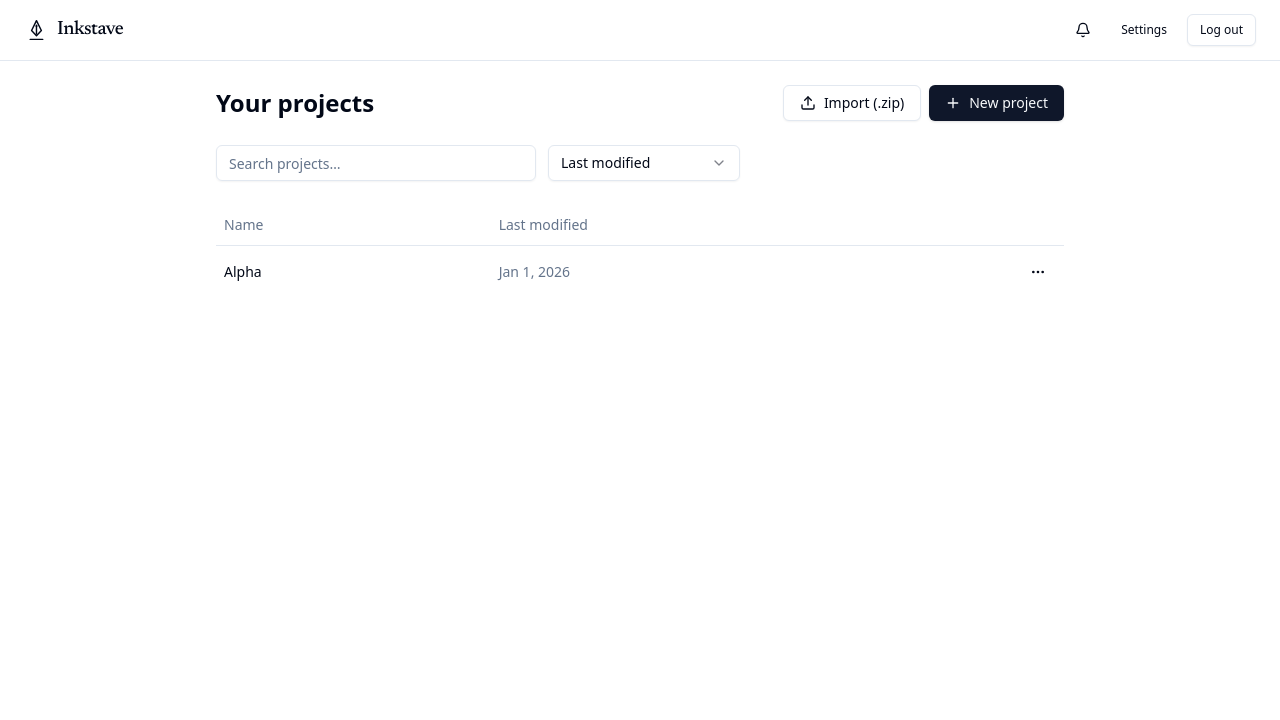
Test: ProjectsPage › renames a project optimistically
Check: the link "Alpha" is shown, box [224, 262, 262, 280]
Click the button named "Project actions" at point(1038, 272), box [1020, 254, 1056, 290]
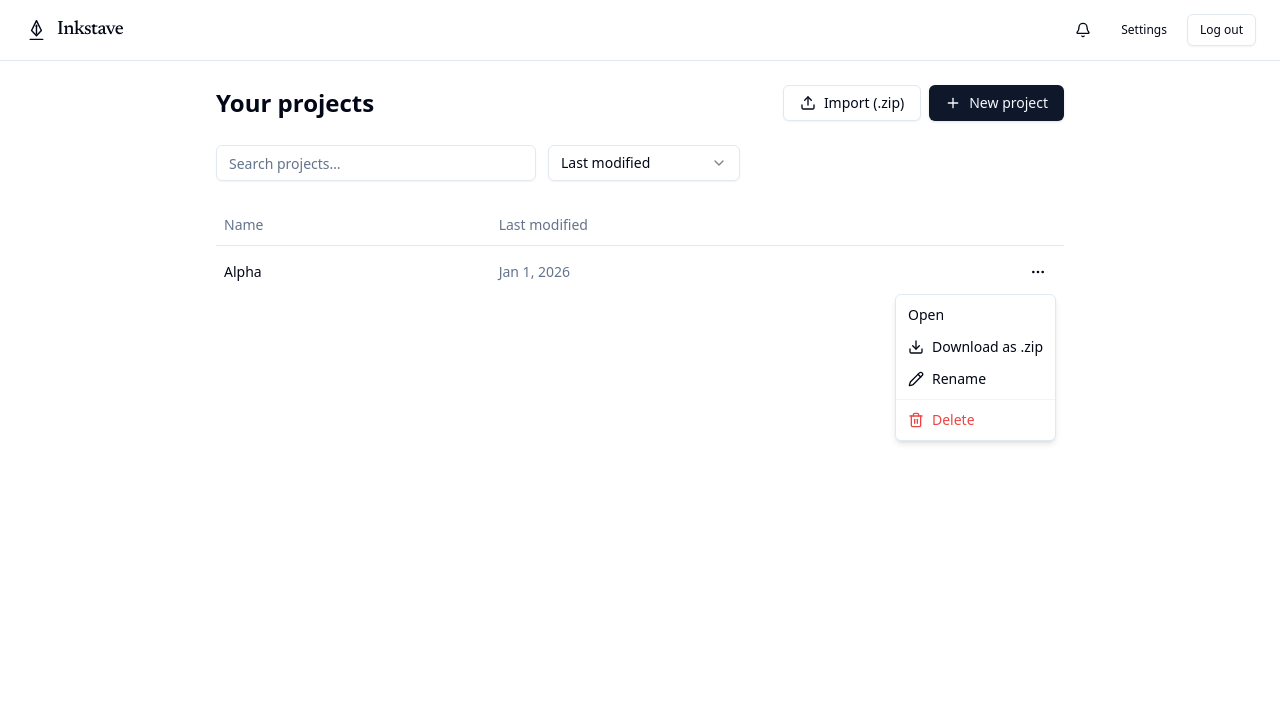
Click the menu item "Rename" at point(947, 378), box [908, 369, 986, 388]
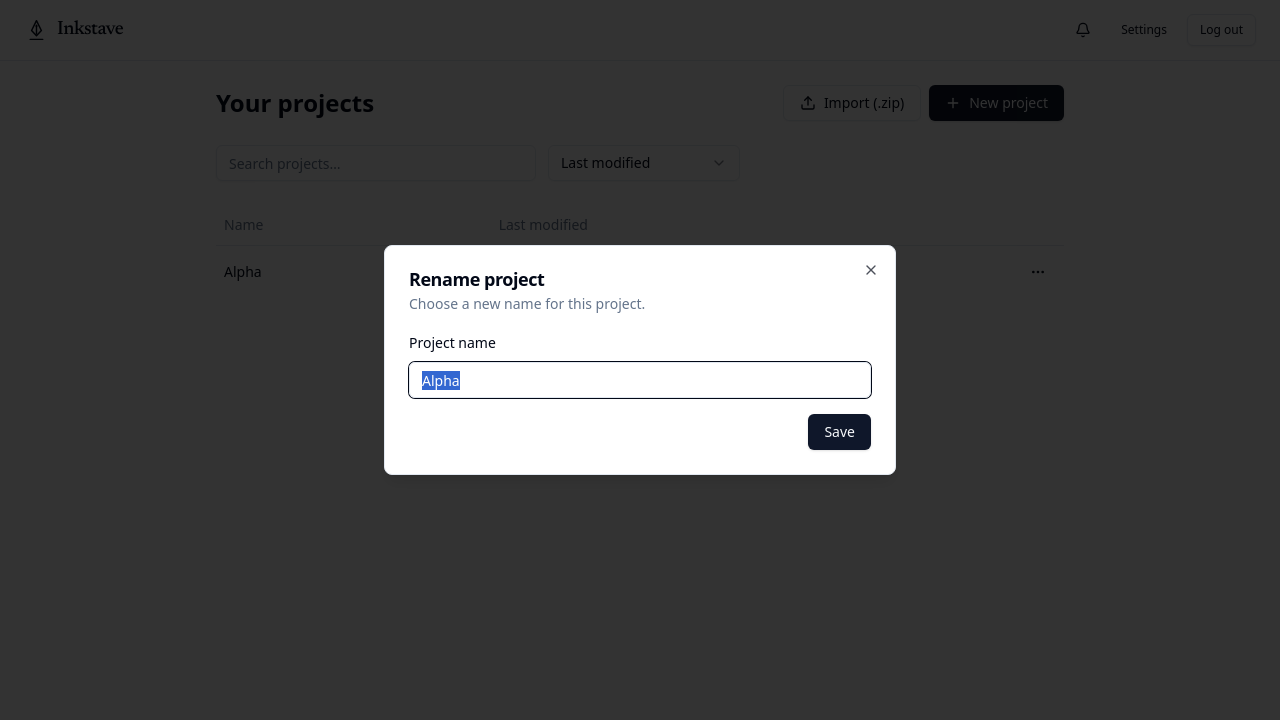
Clear the field labelled "Project name" at point(640, 380), box [409, 362, 871, 398]
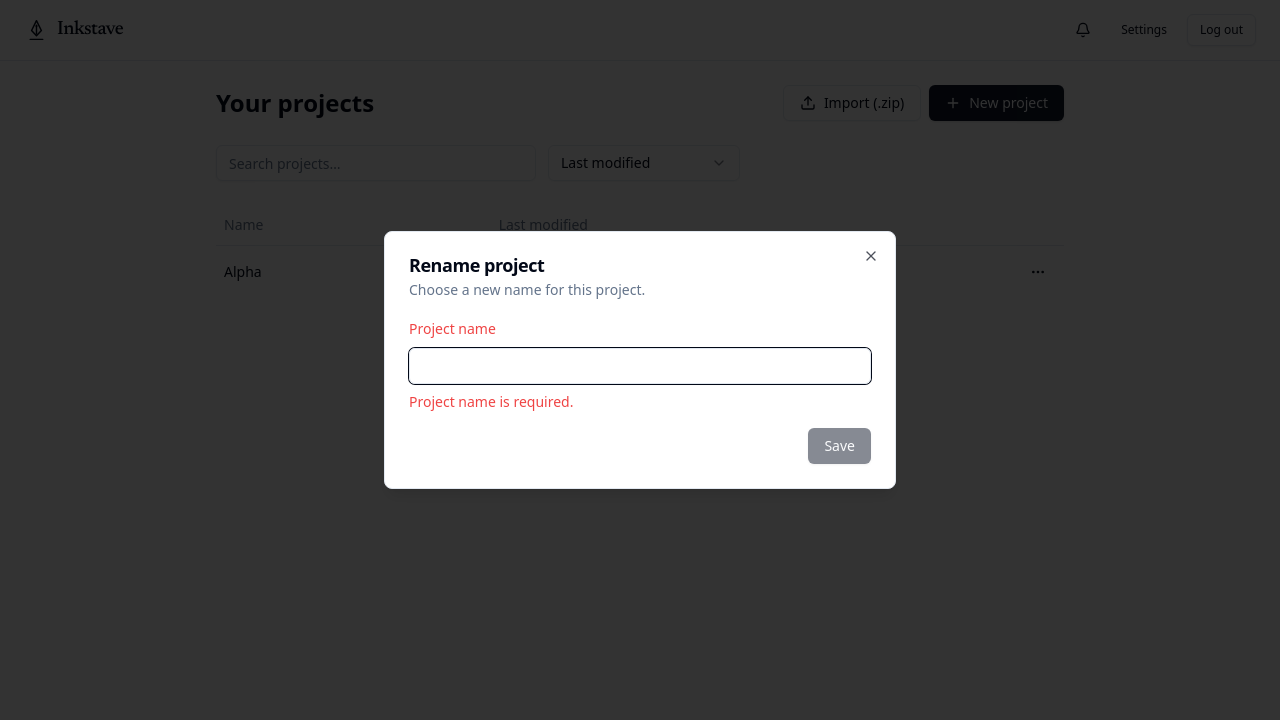
Type "Renamed" into the field labelled "Project name" at point(640, 366), box [409, 348, 871, 384]
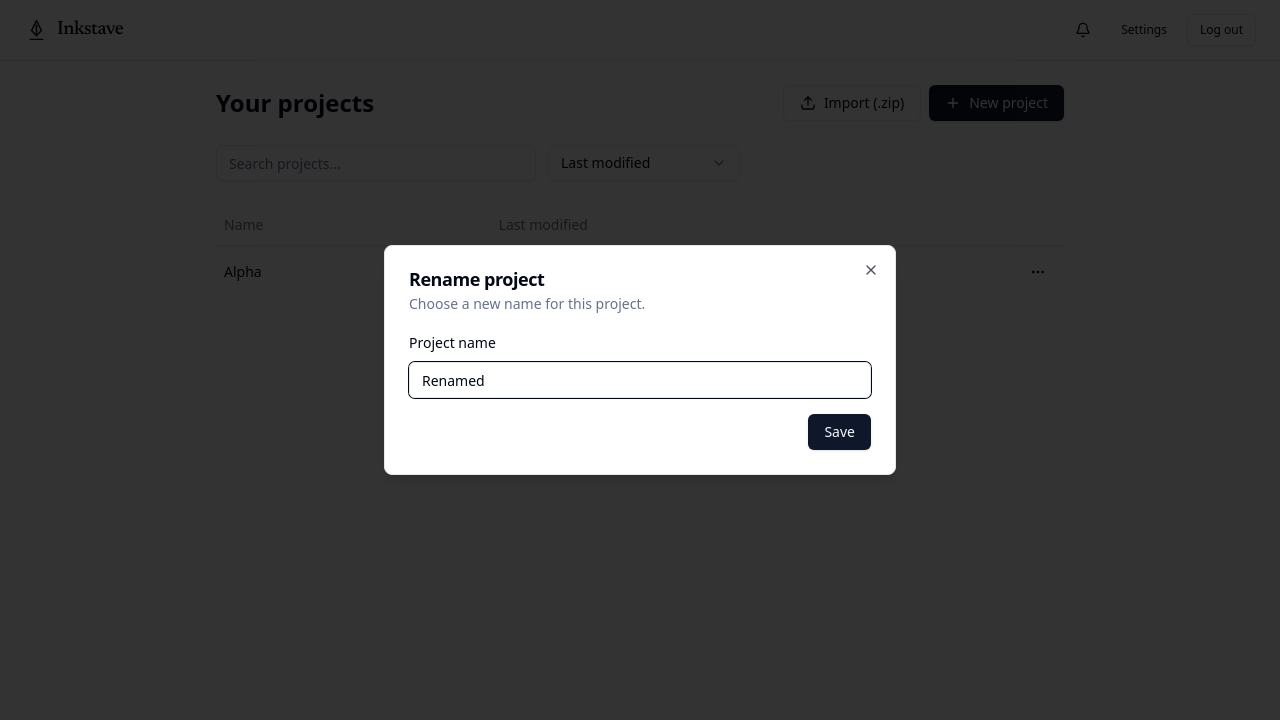
Click the button "Save" at point(840, 432), box [808, 414, 871, 450]
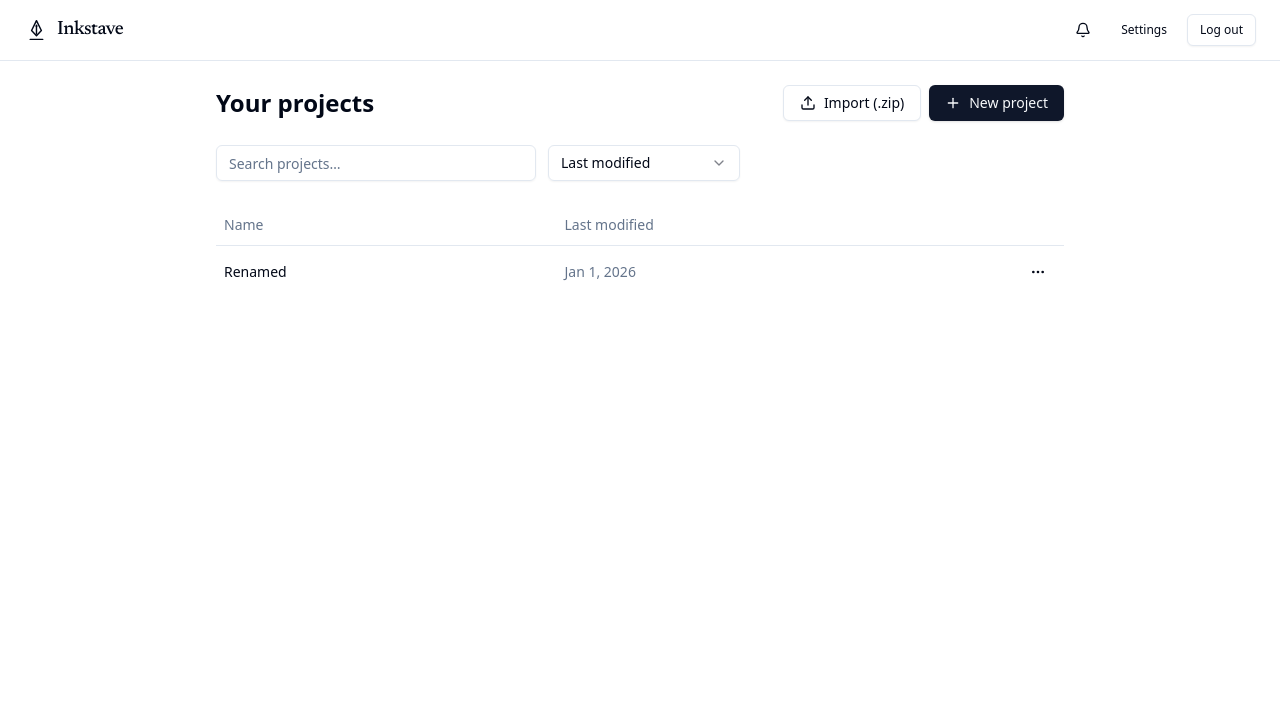
Check: the link "Renamed" is shown, box [224, 262, 287, 280]
